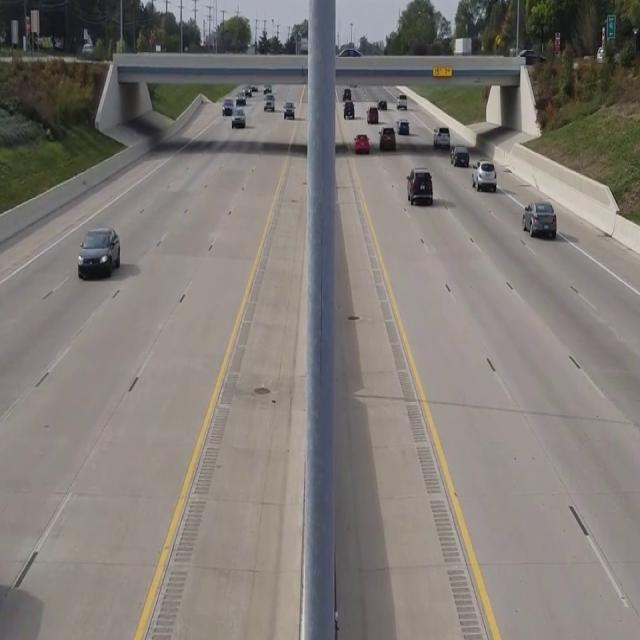car: (77, 226, 120, 278), (522, 200, 557, 238), (406, 168, 432, 205), (471, 159, 497, 191)
